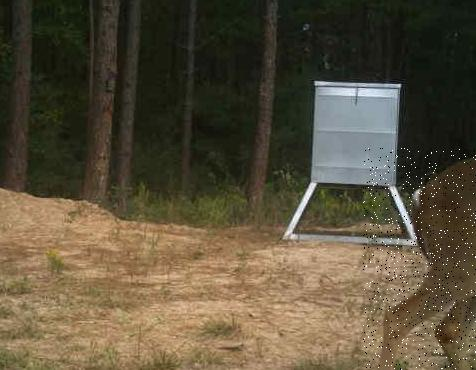Deer: (363, 148, 476, 370)
